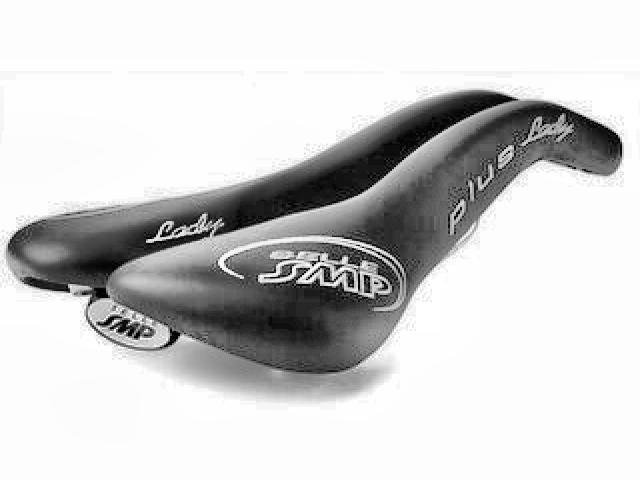saddle: (2, 81, 627, 375)
